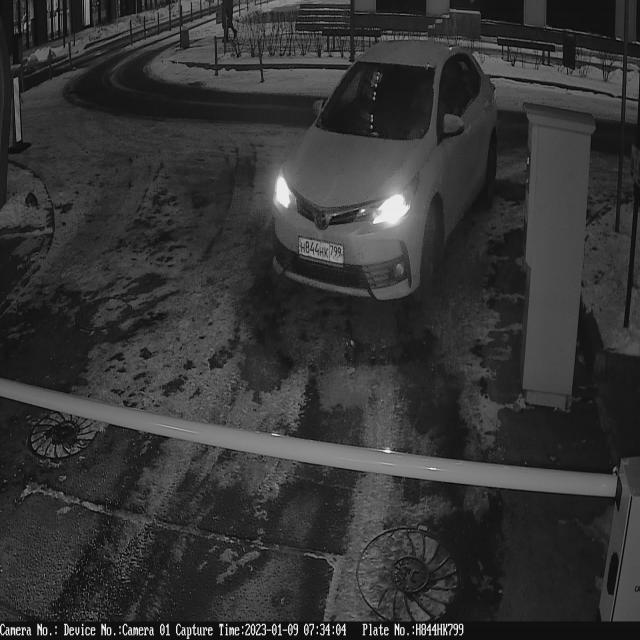car-plate-numbers: (296, 233, 349, 268)
